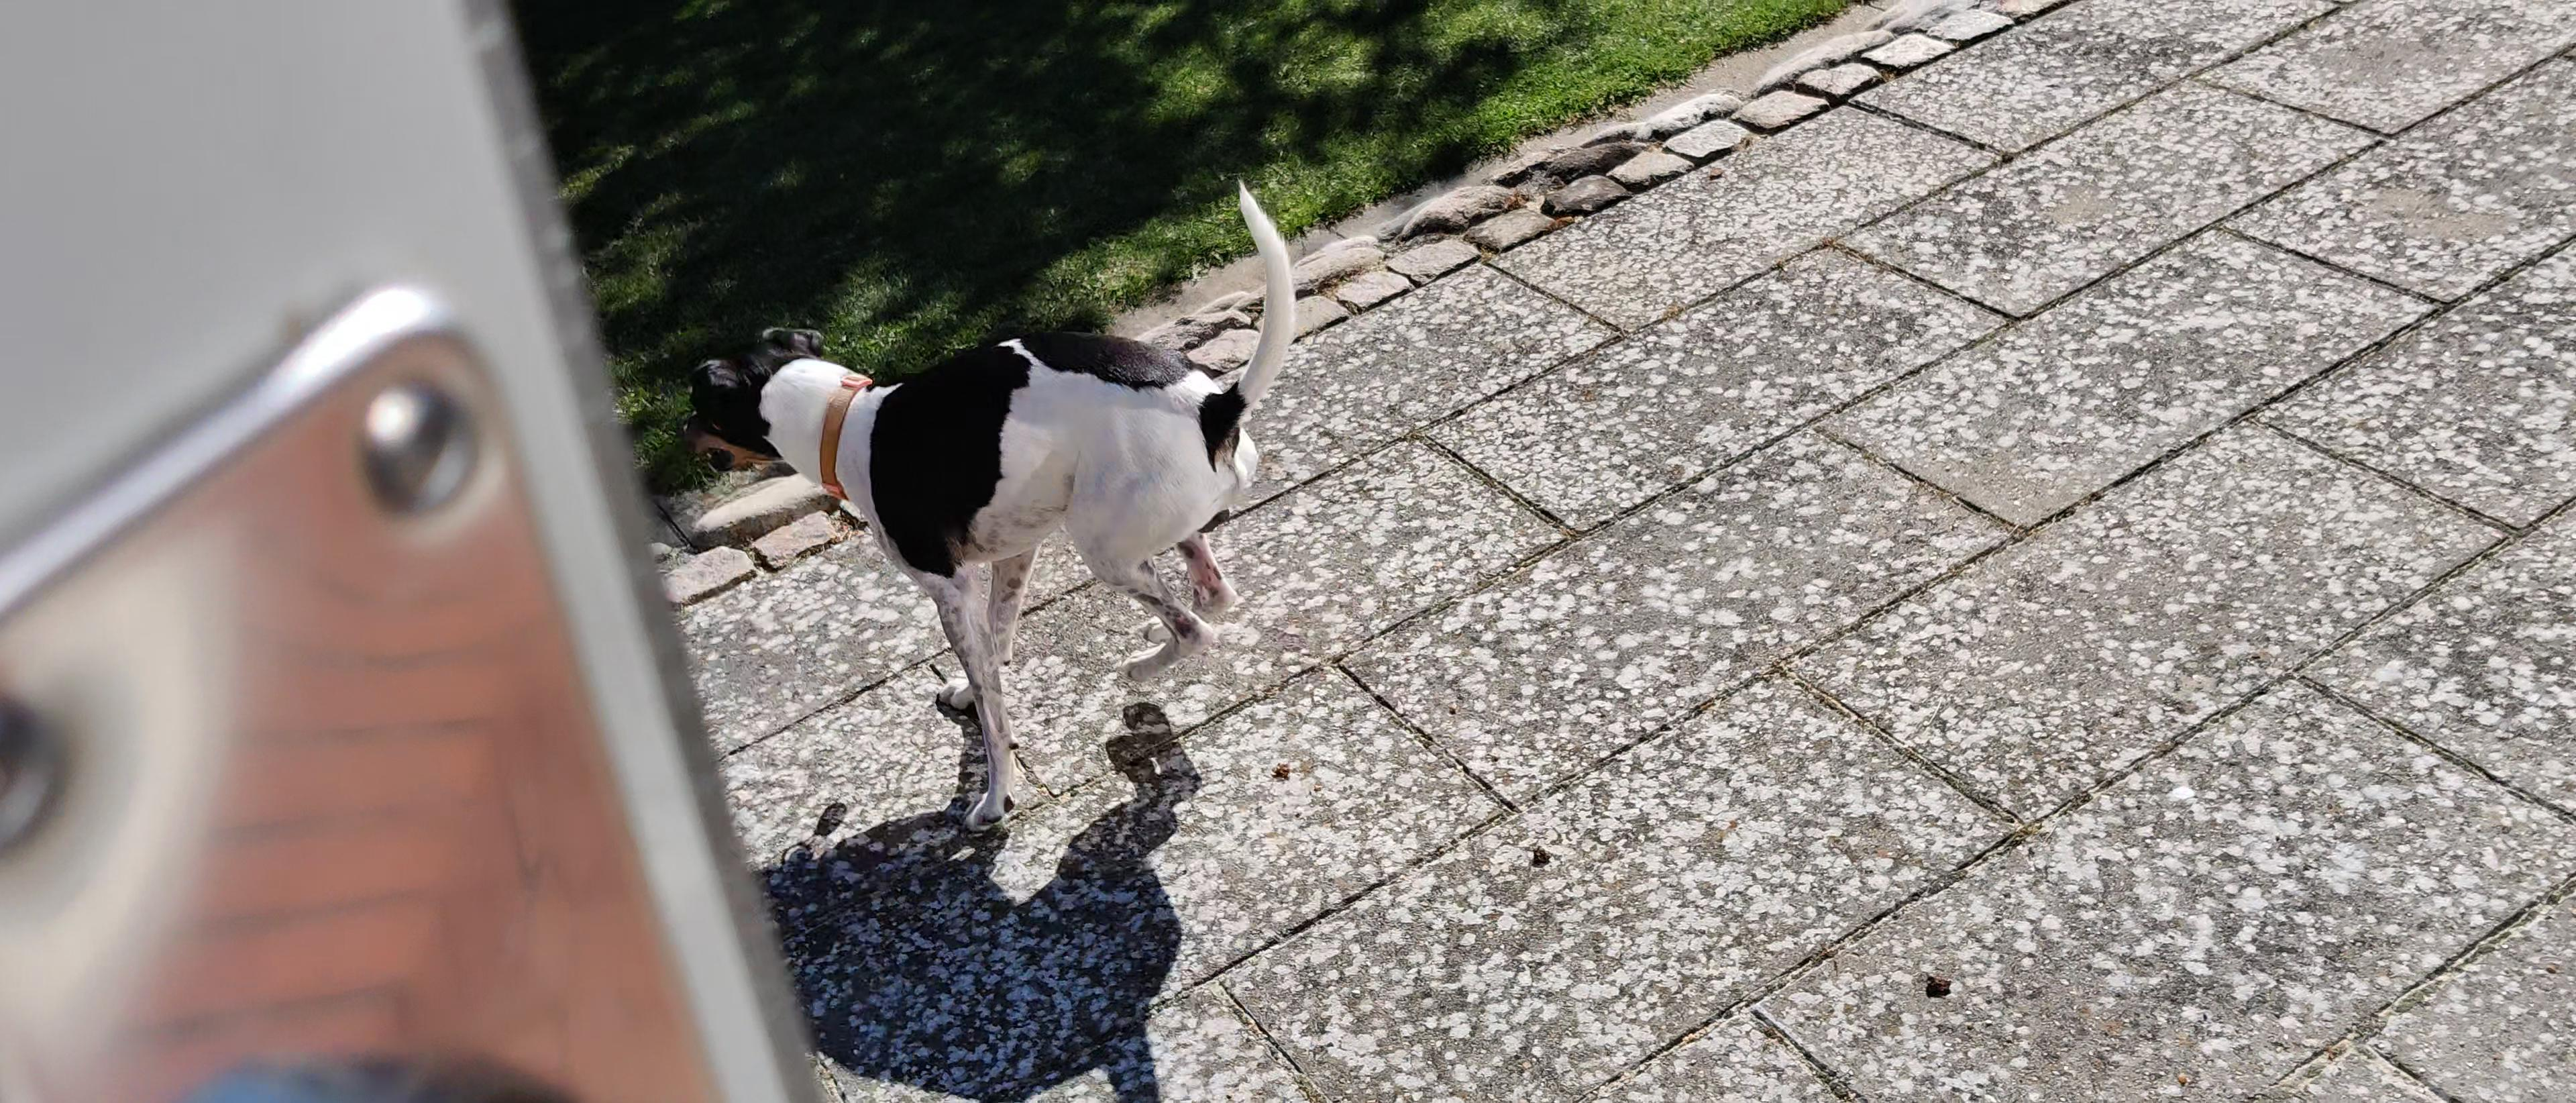Dog: (674, 176, 1303, 833)
